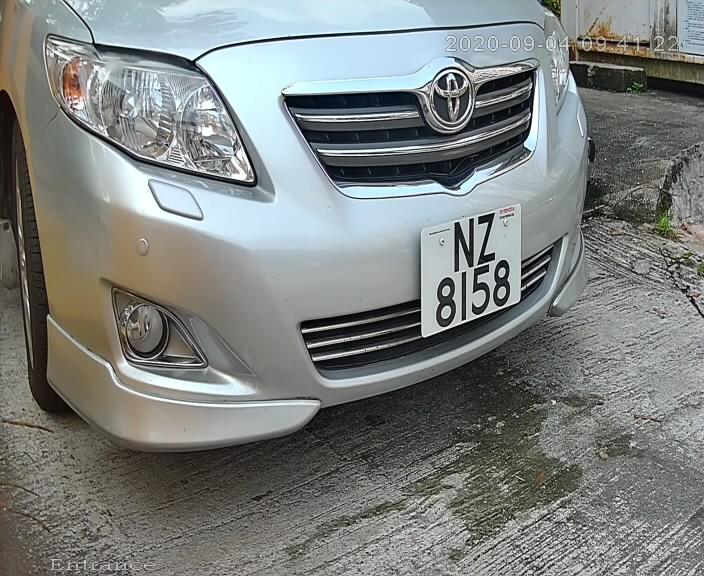License Plate: (412, 199, 529, 343)
